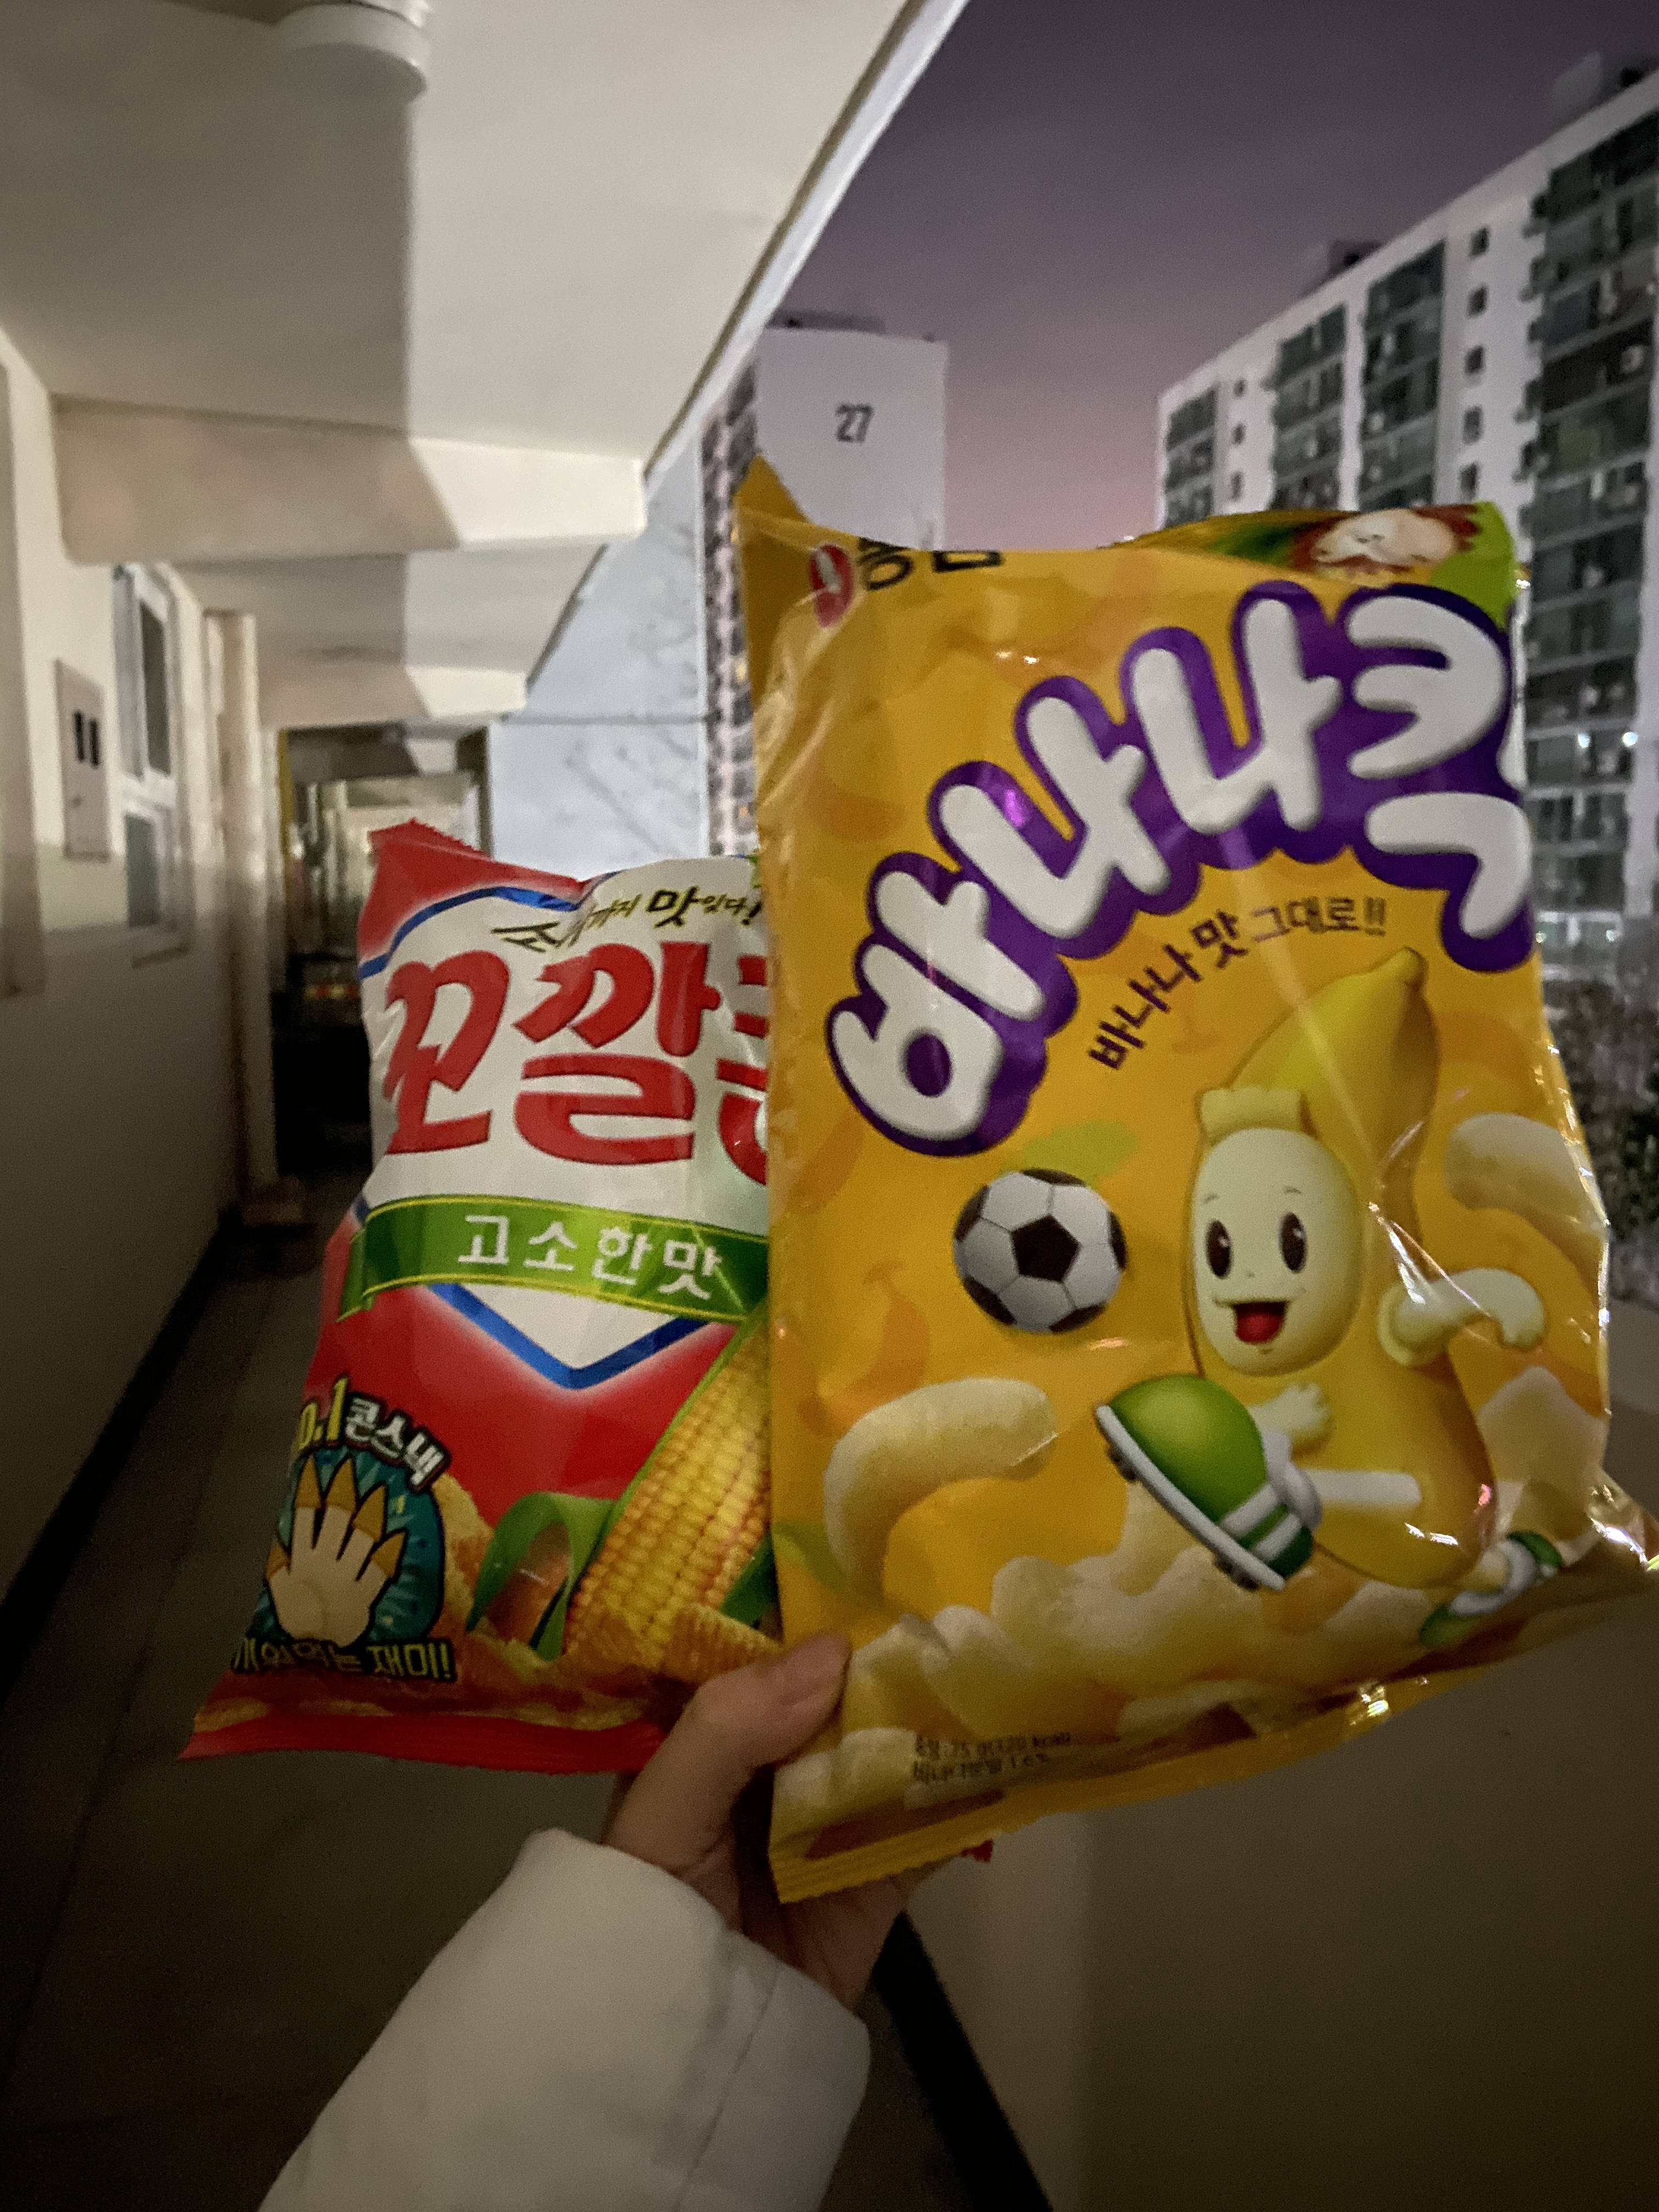banana: (704, 449, 1659, 1916)
ggoggalcon: (167, 815, 781, 1780)
